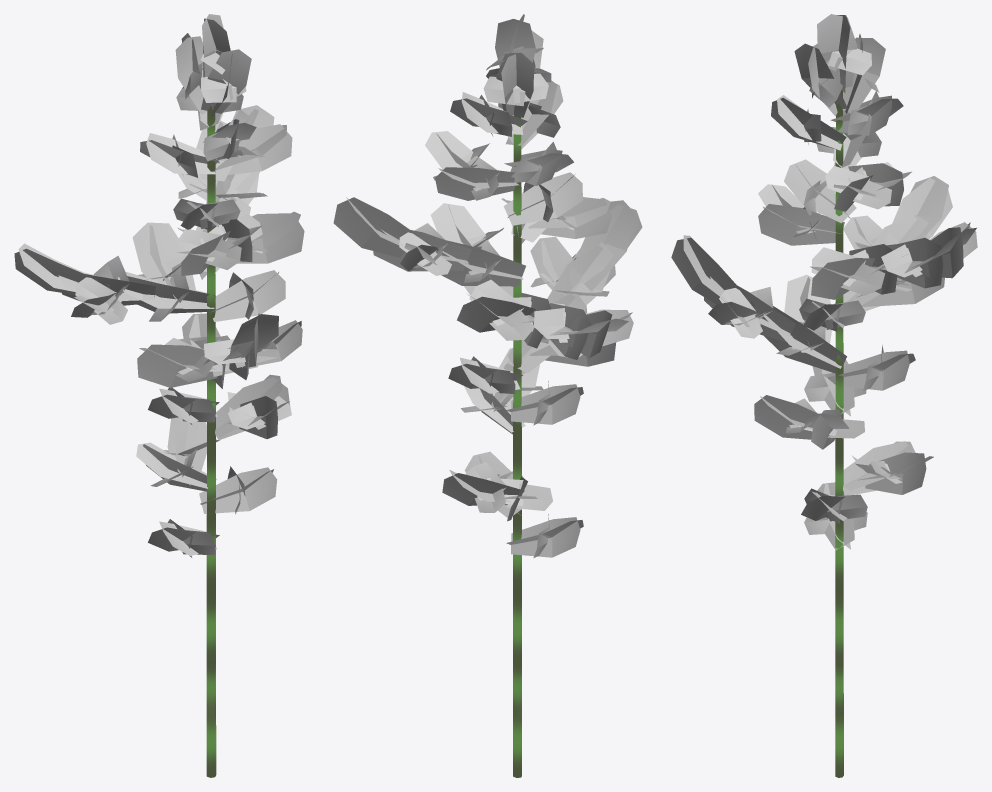
File: Pine_S.B.Z1.fbx
The picture shows the model from 3 angles, left to right: view 1: azimuth 30°, elevation 25°; view 2: azimuth 150°, elevation 25°; view 3: azimuth 270°, elevation 25°; orthographic projection.
Visible parts, largest first — view 1: Pine_S_B_Z1; view 2: Pine_S_B_Z1; view 3: Pine_S_B_Z1.
Boxes of the visible parts, left/top/right/bottom form: Pine_S_B_Z1: left=14, top=14, right=304, bottom=777; Pine_S_B_Z1: left=333, top=14, right=642, bottom=777; Pine_S_B_Z1: left=671, top=14, right=977, bottom=777.
Size of the model in its own units: 116 by 309 by 113.
